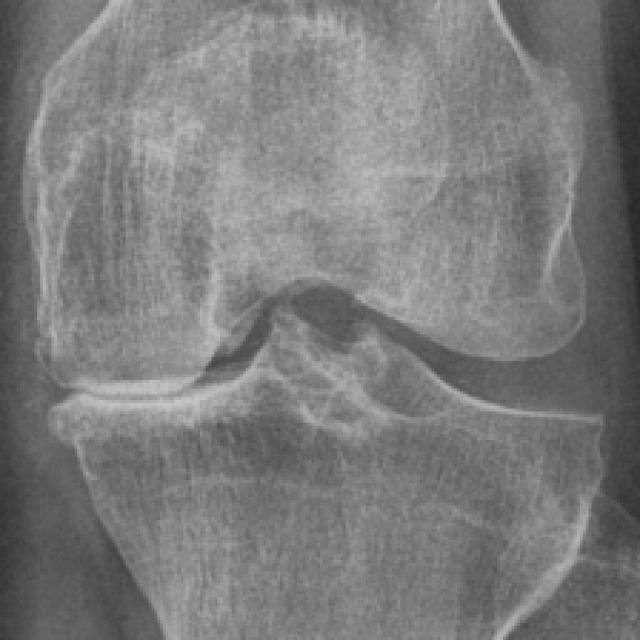femur: (21, 0, 588, 402)
tibia: (52, 308, 595, 639)
